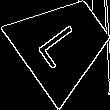L_NE: (34, 16, 92, 71)
